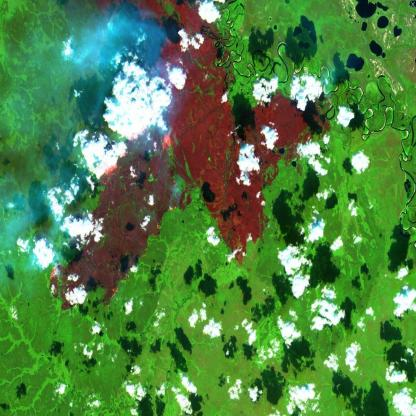fire: (48, 102, 179, 311)
